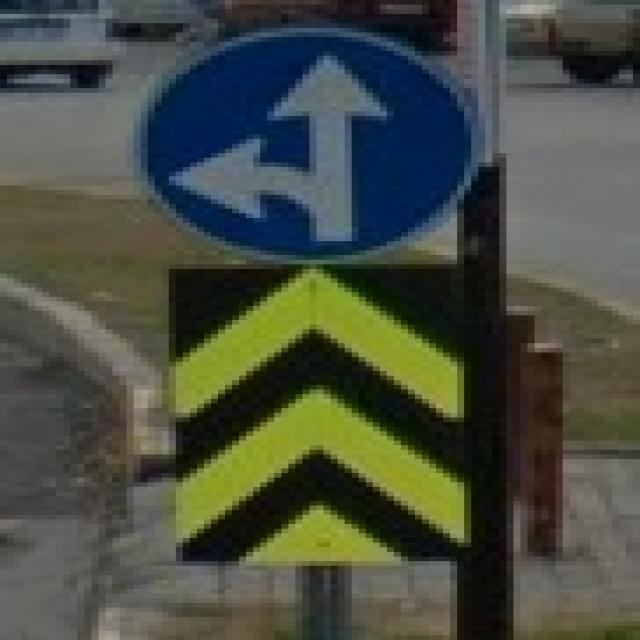Straight or Left: (135, 32, 479, 259)
